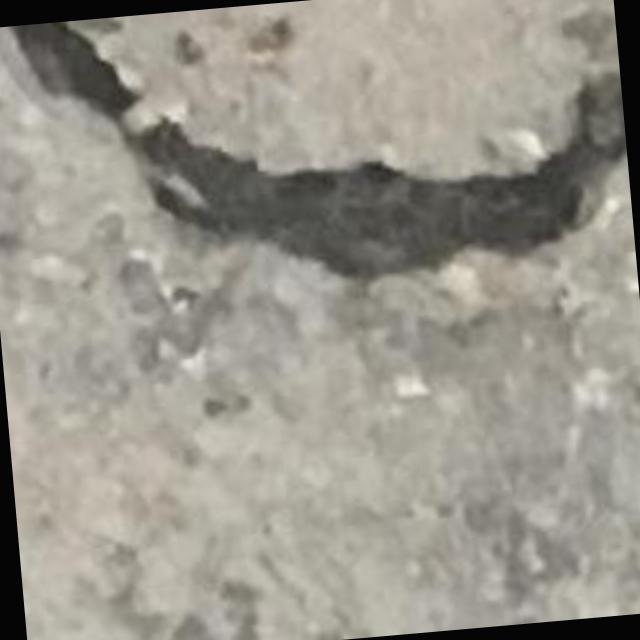crack: (6, 22, 626, 279)
